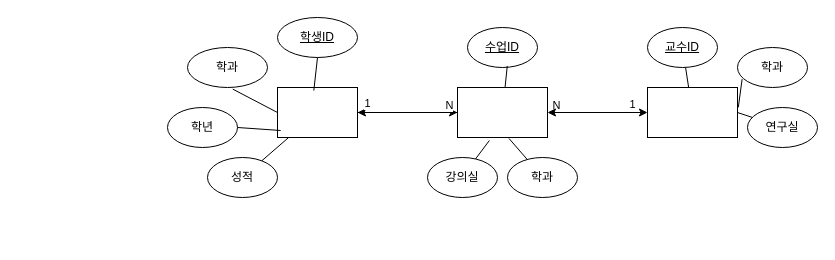
Some shapes in this 835 by 260 pixel diagram are drawn without their labels. The shapes that lost their labels are listed below. From the top down, each one's box as (x1, y1, x2, y2) in pixels, then its label:
(276, 86, 358, 138): 학생
(456, 86, 548, 138): 수업
(646, 86, 738, 138): 교수
